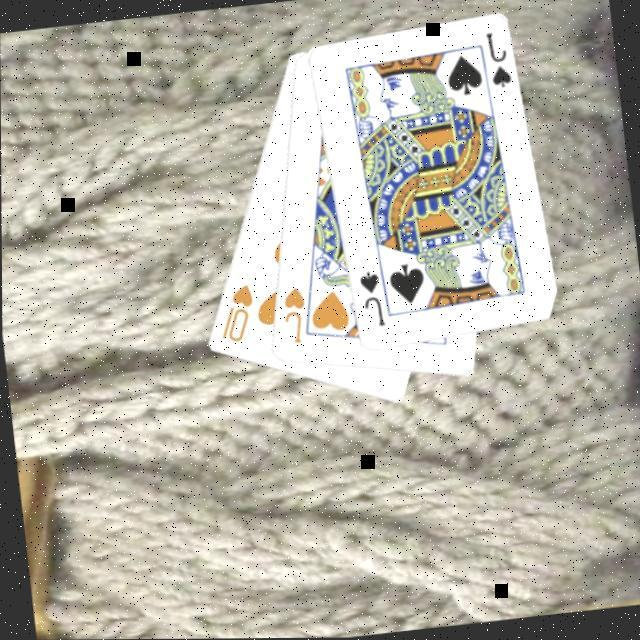10H: (211, 279, 258, 345)
JH: (275, 281, 309, 346)
JS: (352, 266, 385, 329), (481, 26, 513, 90)
